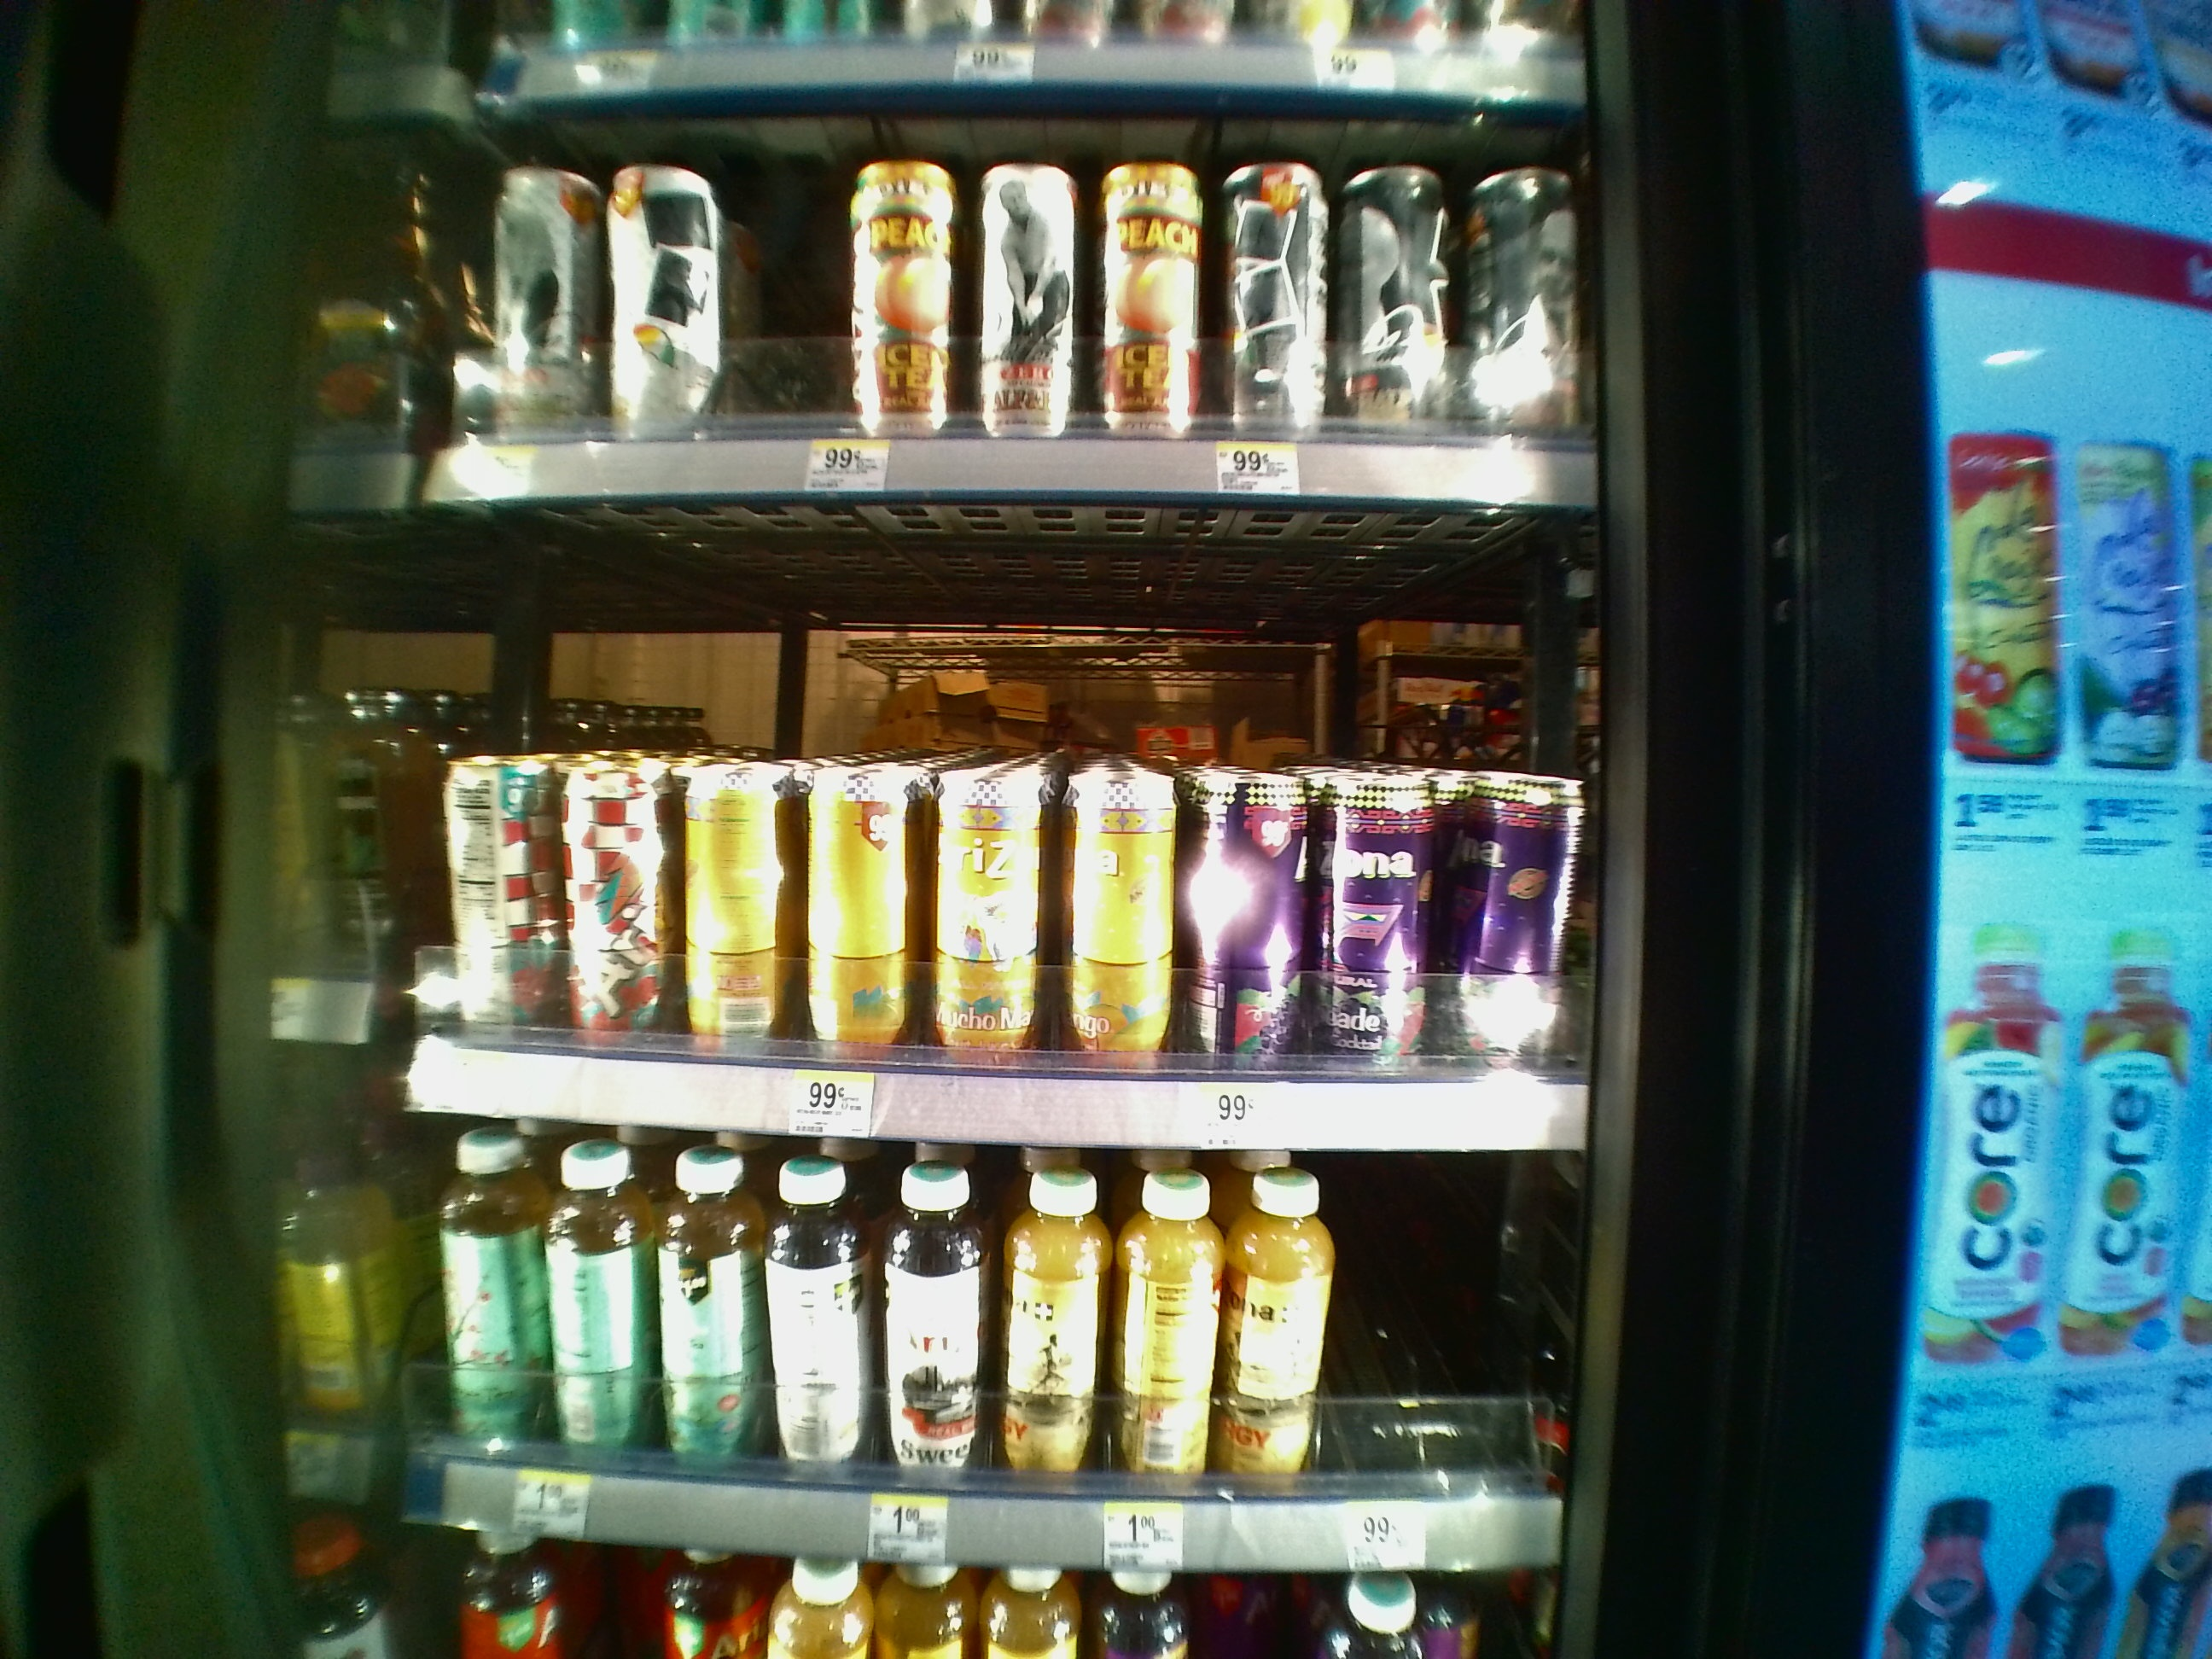shelf: (401, 516, 1594, 1154)
